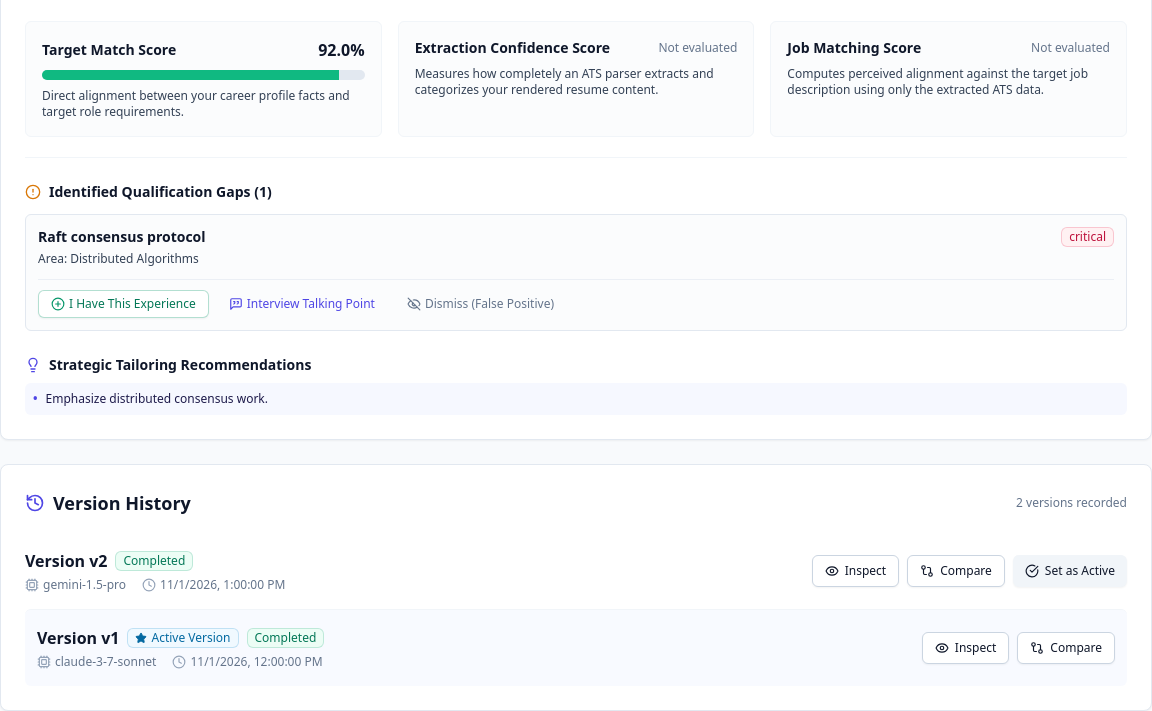
Scenario: BranchWorkbenchPage › promotes version to active via handleSetActiveVersion
This screenshot has width=1152, height=711.
(page scrolled)
Click the button with aria-label "set v2 as active": (1070, 571) x1=1013 y1=555 x2=1127 y2=587
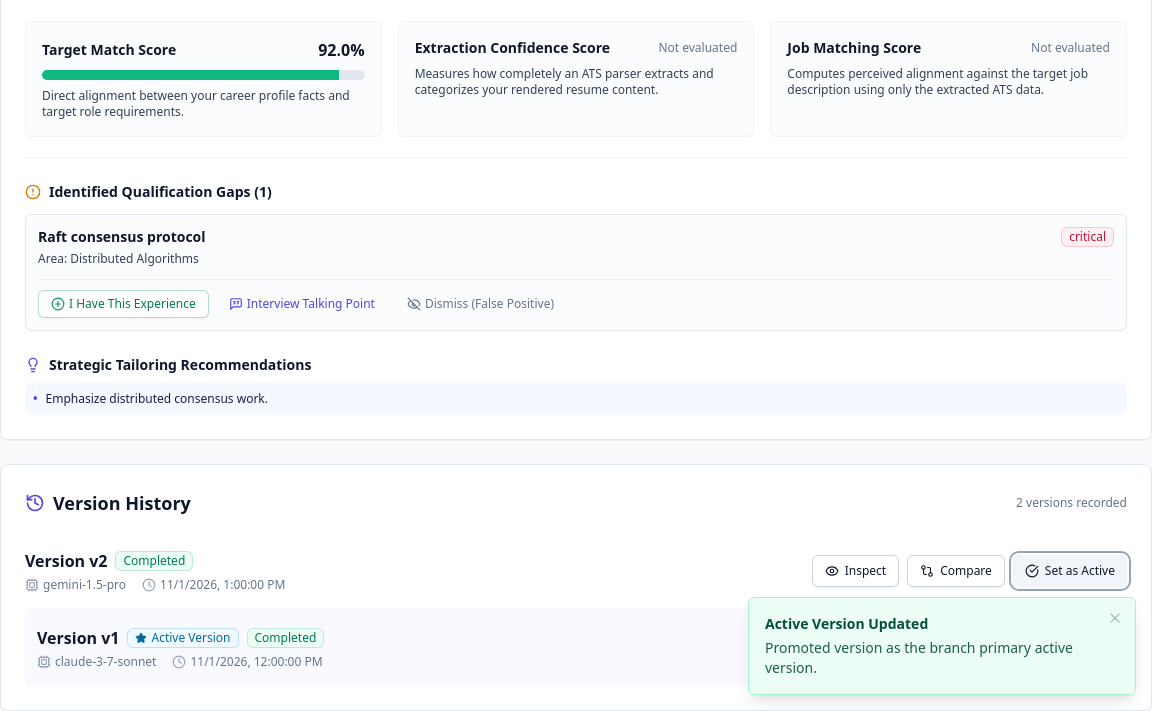
Result: the text "Active Version Updated" is shown at x1=765 y1=614 x2=928 y2=633
